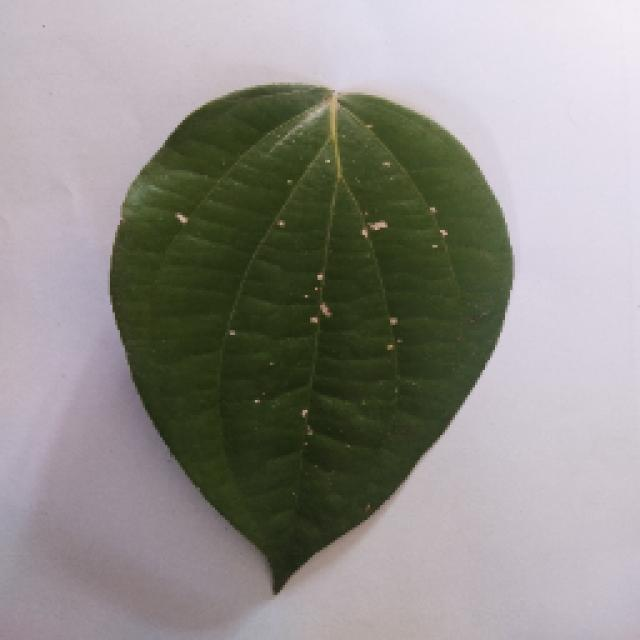pollu-disease: (108, 80, 510, 592)
